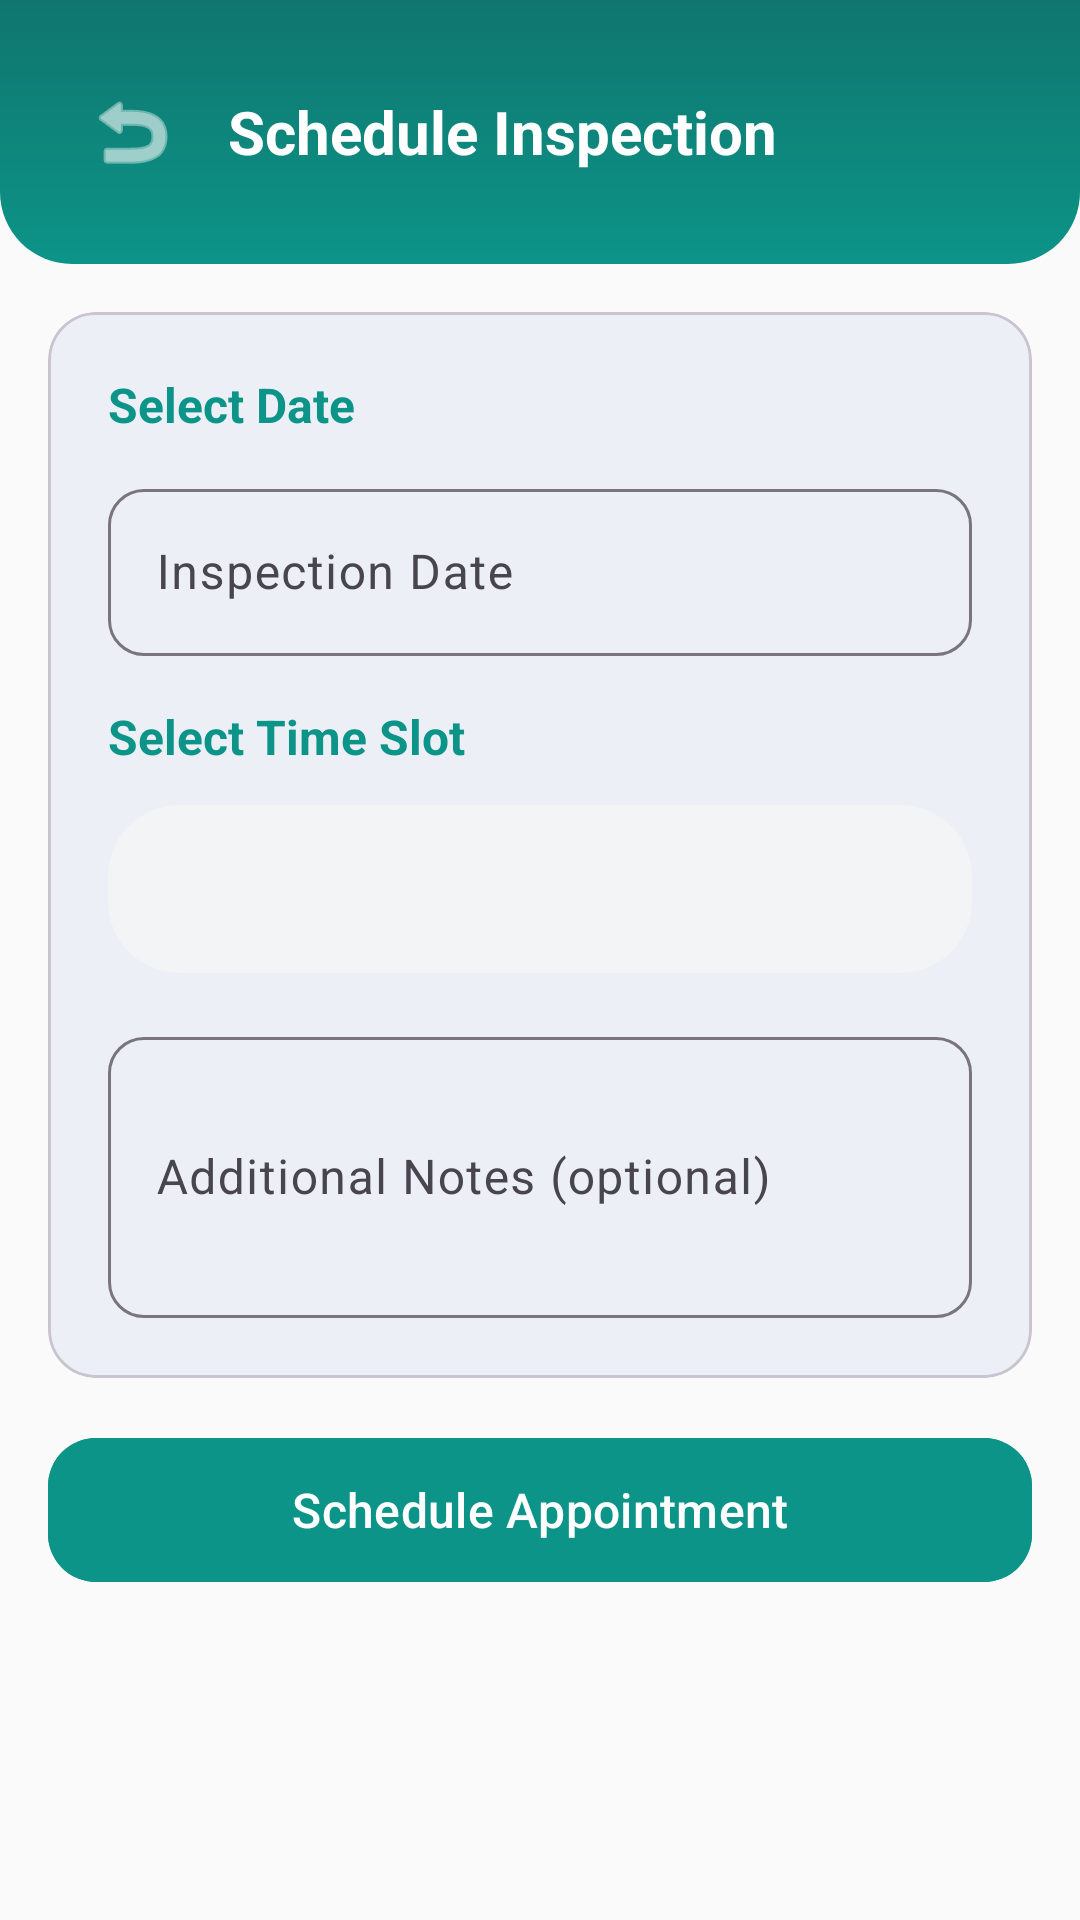

Named icons in this screenshot (1080w x 1920h) and their centers, point (x, y):
revert: point (133, 132)
